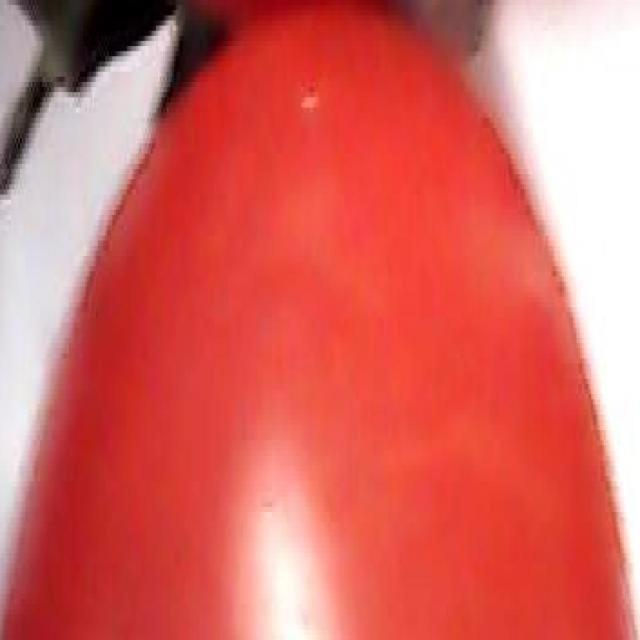Healthy Fruit: (5, 3, 427, 427)
